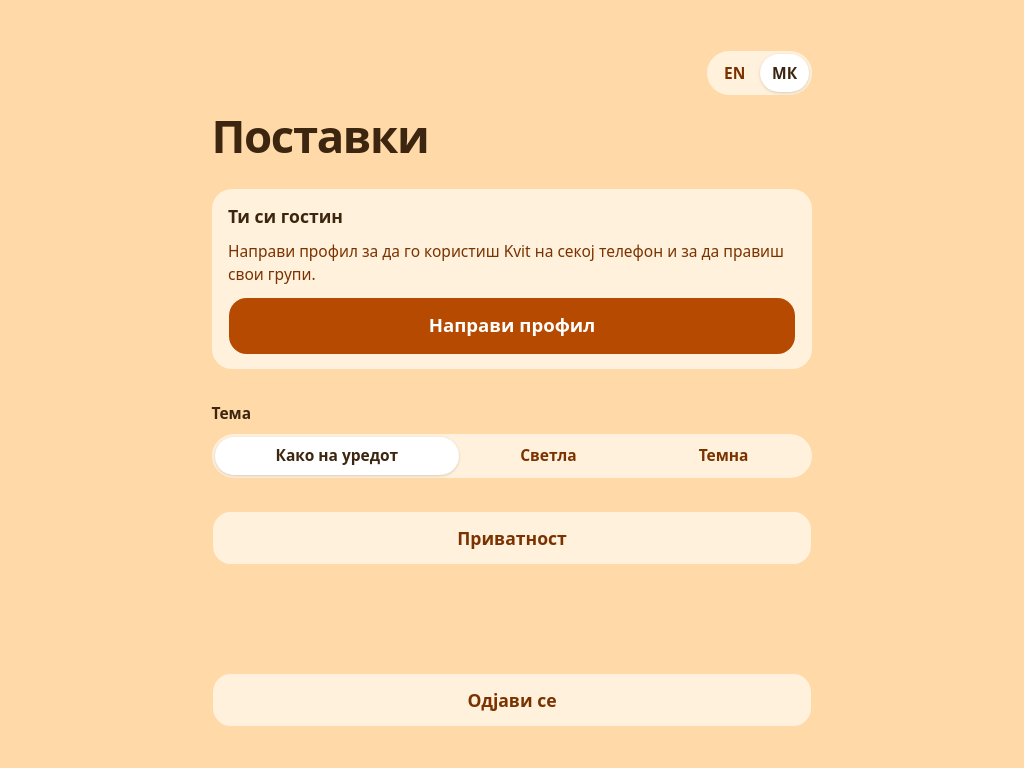
Test: SettingsScreen for a guest › Log out › shows the warning text, Make an account, Log out anyway and Cancel in the sheet (mk)
Click the button "Одјави се": (512, 700) [212, 673, 812, 727]
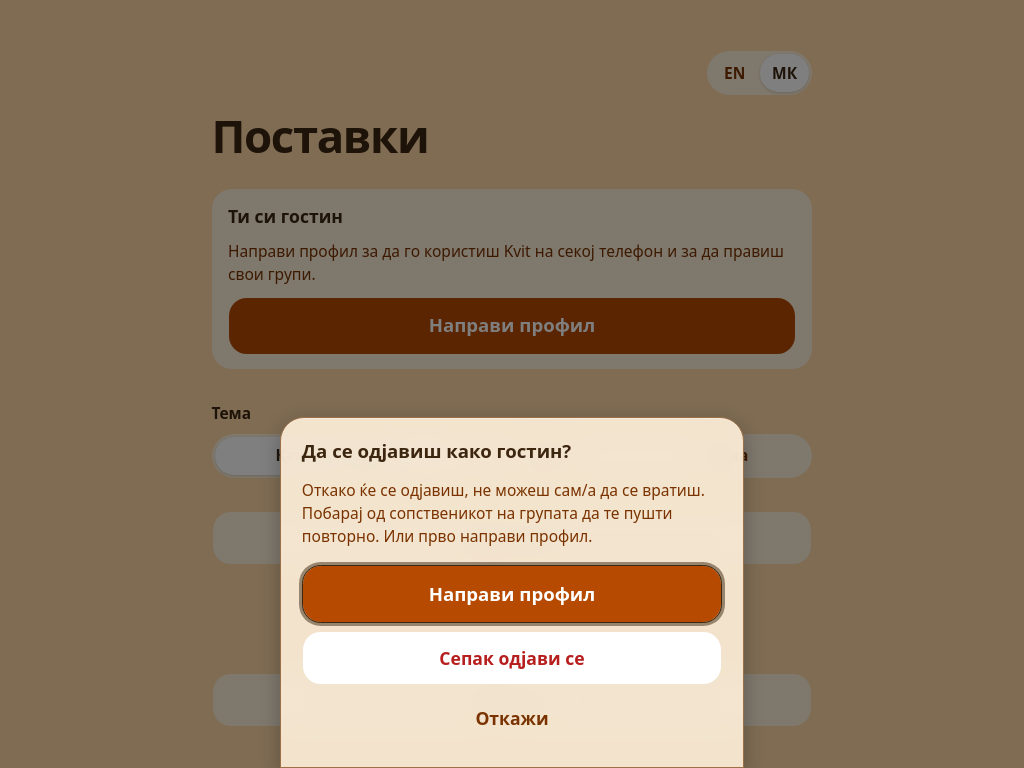
Check: the text "Откако ќе се одјавиш, не можеш сам/а да се вратиш. Побарај од сопственикот на групата да те пушти повторно. Или прво нап" is shown, box [302, 479, 705, 547]
Check: the button "Сепак одјави се" is shown, box [302, 631, 722, 685]
Check: the button "Откажи" is shown, box [302, 693, 722, 743]
